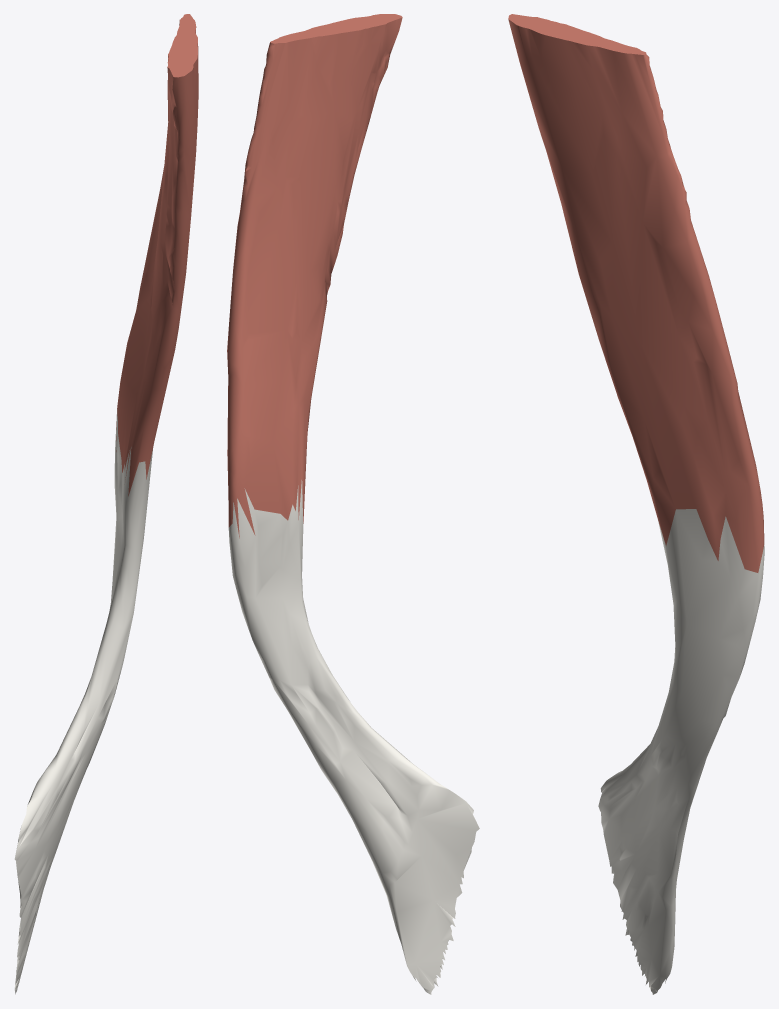
File: sartorius.glb
3 views of the same model, side by side, from view 1: azimuth 30°, elevation 25°; view 2: azimuth 150°, elevation 25°; view 3: azimuth 270°, elevation 25° (orthographic). The views are drawn at different scales.
Parts seen in each view (by area): view 1: sartorius; view 2: sartorius; view 3: sartorius.
Boxes of the visible parts, <box> form: sartorius: <box>14,14,198,994</box>; sartorius: <box>227,14,479,994</box>; sartorius: <box>508,14,764,994</box>.
Size of the model in its own units: 0.0518 by 0.2244 by 0.0506.
